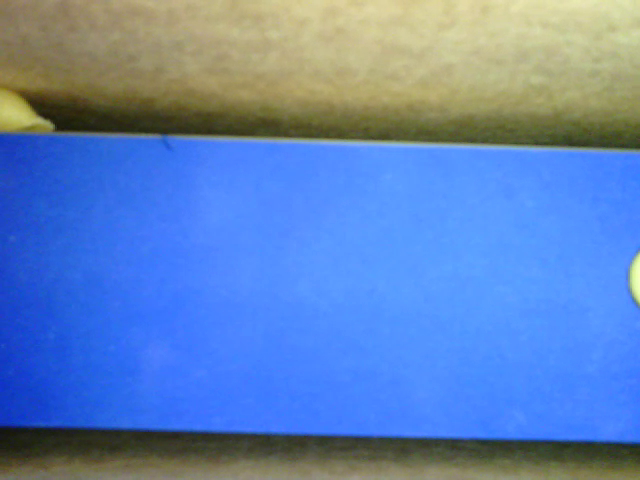shell: (1, 90, 62, 132)
